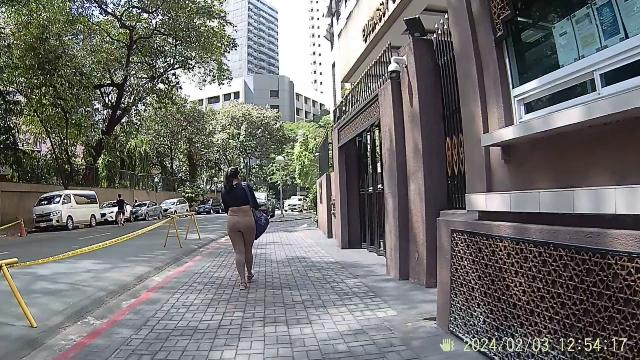construction_materials: (17, 216, 27, 240)
lamp_post: (273, 153, 287, 214)
